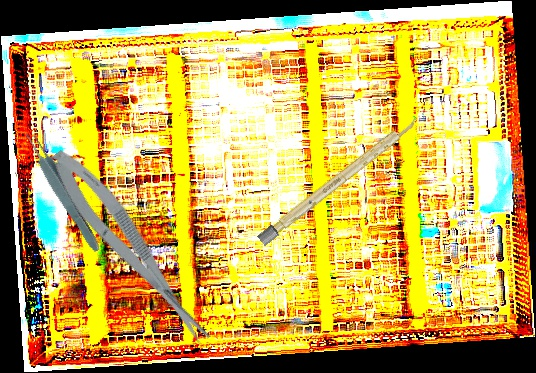Micro Scissor: (40, 139, 219, 357)
Scalpel Handle: (256, 114, 421, 247)
Tissue Forceps: (20, 126, 106, 256)
